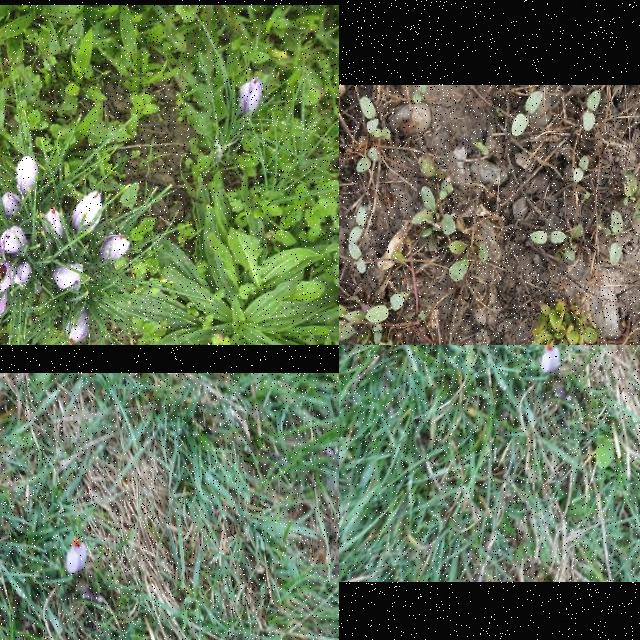flower: (71, 191, 103, 235), (99, 234, 131, 264), (238, 77, 264, 113), (65, 308, 90, 345), (16, 156, 40, 194), (52, 264, 84, 292), (0, 226, 29, 256), (66, 538, 88, 574), (44, 208, 66, 240), (1, 192, 22, 220), (541, 345, 561, 374), (13, 262, 32, 288)
